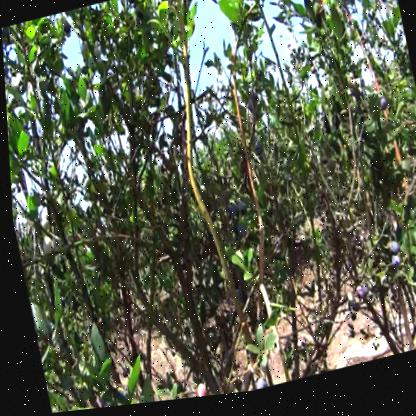intermediate: (191, 384, 206, 401)
mature: (229, 224, 244, 244), (252, 145, 264, 163), (234, 204, 246, 221), (387, 249, 397, 263), (389, 263, 398, 278), (226, 208, 235, 223), (378, 106, 387, 119)
young: (49, 234, 61, 255), (40, 238, 52, 258)
